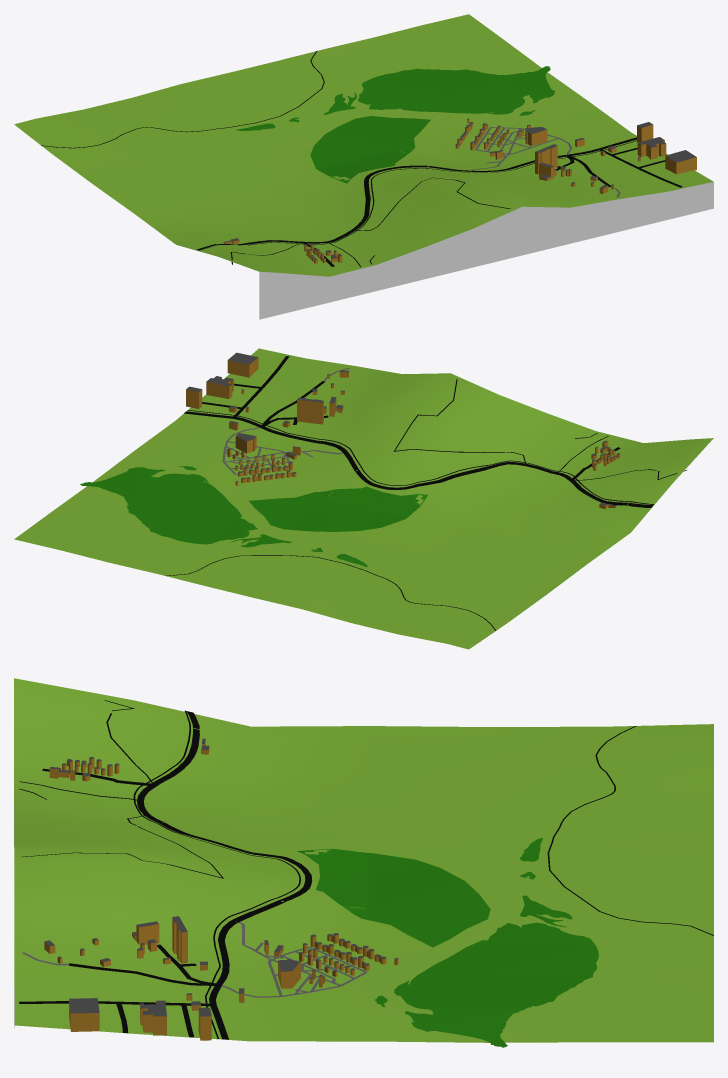
The model's file is tile_10_00.glb.
3 renders of one model, top to bottom at view 1: azimuth 30°, elevation 25°; view 2: azimuth 150°, elevation 25°; view 3: azimuth 270°, elevation 25°, orthographic. The views are drawn at different scales.
Parts seen in each view (by area): view 1: Terrain_10_00, Ub_small.osm_forest_10_00, Ub_small.osm_buildings_10_00, Ub_small.osm_roads_primary_10_00, Ub_small.osm_paths_footway_10_00, Ub_small.osm_roads_service_10_00, Ub_small.osm_roads_residential_10_00, Ub_small.osm_paths_cycleway_10_00; view 2: Terrain_10_00, Ub_small.osm_forest_10_00, Ub_small.osm_buildings_10_00, Ub_small.osm_roads_primary_10_00, Ub_small.osm_paths_footway_10_00, Ub_small.osm_roads_residential_10_00, Ub_small.osm_roads_service_10_00, Ub_small.osm_paths_cycleway_10_00; view 3: Terrain_10_00, Ub_small.osm_forest_10_00, Ub_small.osm_buildings_10_00, Ub_small.osm_roads_primary_10_00, Ub_small.osm_roads_residential_10_00, Ub_small.osm_paths_footway_10_00, Ub_small.osm_roads_service_10_00, Ub_small.osm_paths_cycleway_10_00.
Boxes of the visible parts, left/top/right/bottom form: Terrain_10_00: left=14, top=14, right=713, bottom=319; Ub_small.osm_forest_10_00: left=236, top=66, right=554, bottom=183; Ub_small.osm_buildings_10_00: left=223, top=118, right=696, bottom=263; Ub_small.osm_roads_primary_10_00: left=196, top=137, right=636, bottom=250; Ub_small.osm_paths_footway_10_00: left=41, top=50, right=510, bottom=266; Ub_small.osm_roads_service_10_00: left=472, top=127, right=620, bottom=197; Ub_small.osm_roads_residential_10_00: left=303, top=147, right=682, bottom=266; Ub_small.osm_paths_cycleway_10_00: left=199, top=140, right=636, bottom=250; Terrain_10_00: left=14, top=348, right=713, bottom=649; Ub_small.osm_forest_10_00: left=80, top=466, right=427, bottom=566; Ub_small.osm_buildings_10_00: left=186, top=352, right=620, bottom=509; Ub_small.osm_roads_primary_10_00: left=184, top=411, right=653, bottom=507; Ub_small.osm_paths_footway_10_00: left=166, top=379, right=686, bottom=630; Ub_small.osm_roads_residential_10_00: left=202, top=356, right=620, bottom=480; Ub_small.osm_roads_service_10_00: left=222, top=367, right=349, bottom=474; Ub_small.osm_paths_cycleway_10_00: left=187, top=410, right=653, bottom=504; Terrain_10_00: left=14, top=678, right=713, bottom=1042; Ub_small.osm_forest_10_00: left=297, top=838, right=598, bottom=1047; Ub_small.osm_buildings_10_00: left=44, top=738, right=398, bottom=1040; Ub_small.osm_roads_primary_10_00: left=137, top=711, right=312, bottom=1039; Ub_small.osm_roads_residential_10_00: left=19, top=768, right=218, bottom=1037; Ub_small.osm_paths_footway_10_00: left=19, top=700, right=713, bottom=935; Ub_small.osm_roads_service_10_00: left=22, top=921, right=367, bottom=997; Ub_small.osm_paths_cycleway_10_00: left=133, top=710, right=300, bottom=1038.
Bounding box in the file's own units: 993 × 100 × 913.
